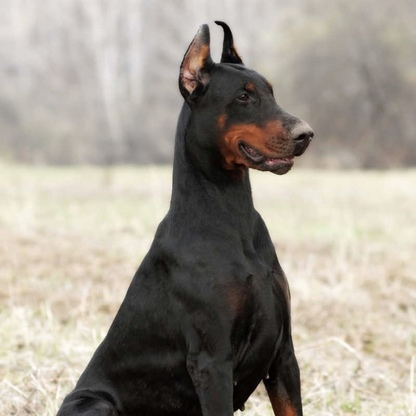doberman: (50, 20, 319, 416)
